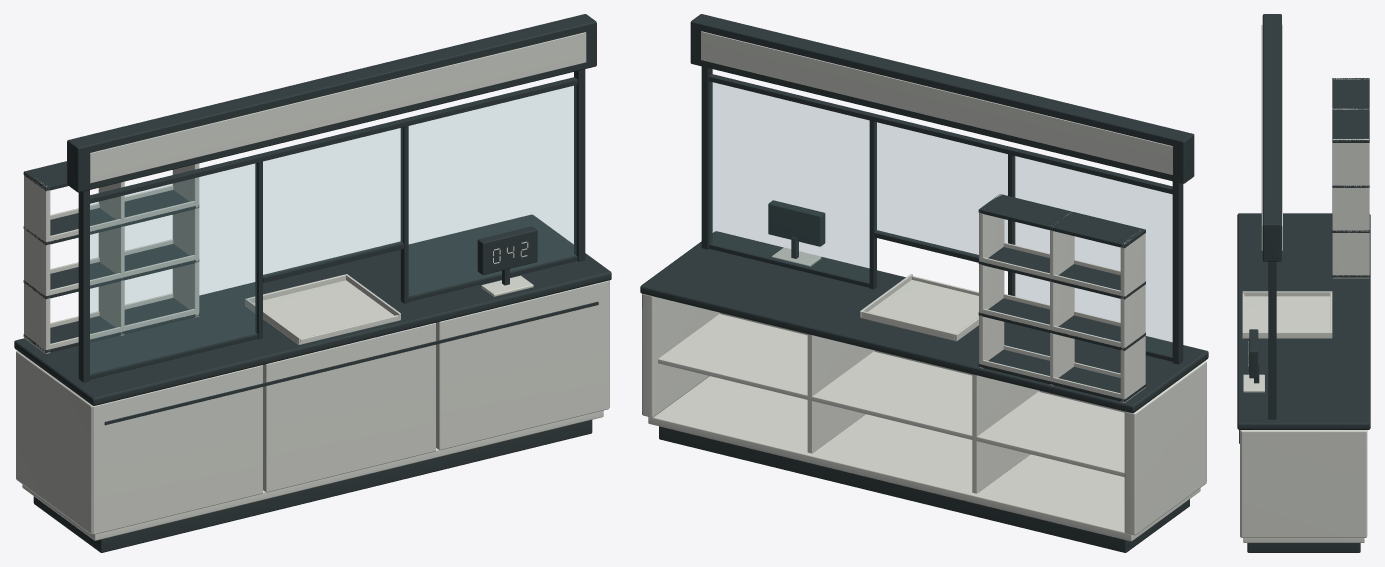
3 views of the same model, side by side, from view 1: azimuth 30°, elevation 25°; view 2: azimuth 150°, elevation 25°; view 3: azimuth 270°, elevation 25° (orthographic). The views are drawn at different scales.
Parts seen in each view (by area): view 1: BATCH_Porcelain, BATCH_Graphite, BATCH_Glass; view 2: BATCH_Porcelain, BATCH_Graphite, BATCH_Glass; view 3: BATCH_Graphite, BATCH_Porcelain.
Part boxes in pixels (<box>): BATCH_Porcelain: <box>16,32,609,540</box>; BATCH_Graphite: <box>14,14,611,552</box>; BATCH_Glass: <box>90,85,576,373</box>; BATCH_Porcelain: <box>642,31,1206,541</box>; BATCH_Graphite: <box>640,14,1208,552</box>; BATCH_Glass: <box>710,82,1172,355</box>; BATCH_Graphite: <box>1237,14,1370,552</box>; BATCH_Porcelain: <box>1240,24,1369,542</box>.
Size of the model in its own units: 3 by 2.22 by 0.8.
